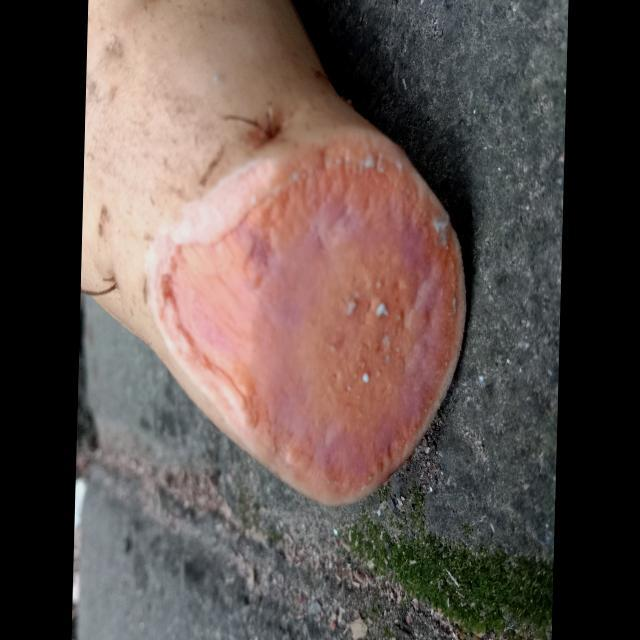Healthy Sweet Potato: (146, 130, 465, 505)
